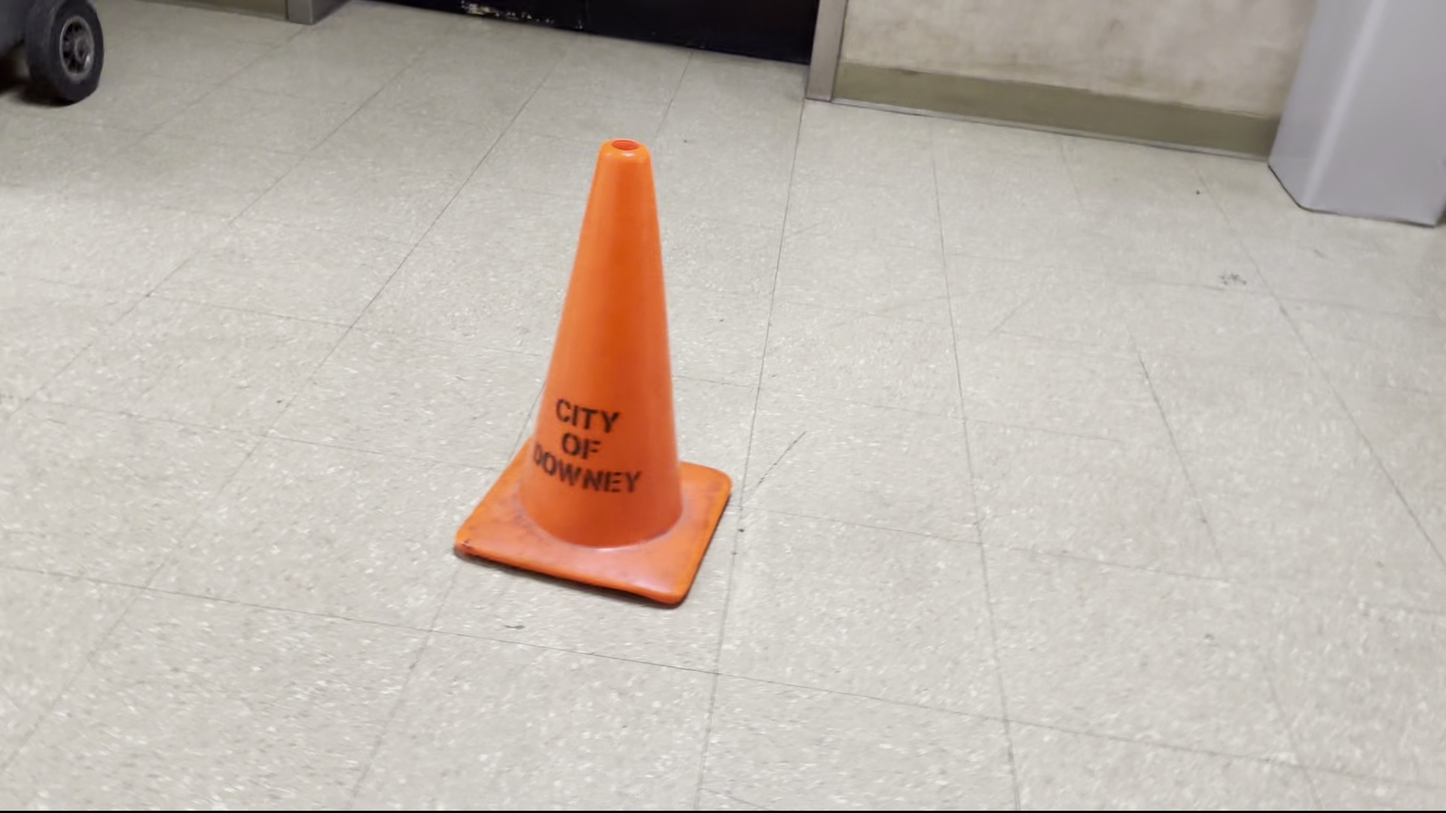traffic_cone: (452, 137, 734, 608)
